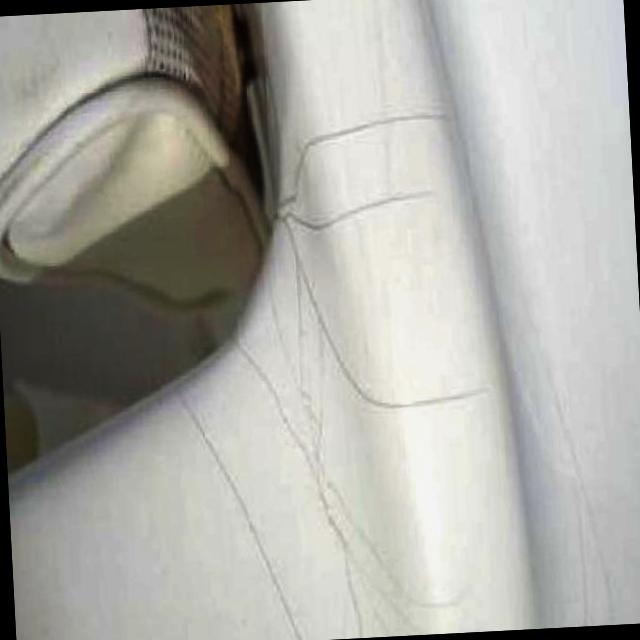crack: (284, 172, 440, 240), (284, 107, 412, 165), (378, 360, 470, 413)
